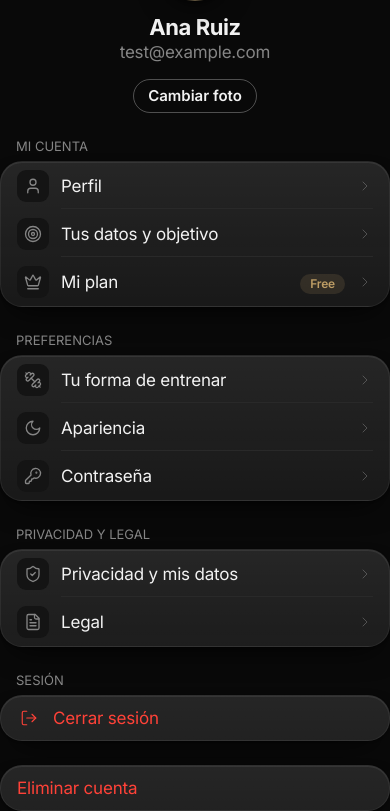
Test: settings account deletion › warns about a active subscription before deleting the account
The image size is (390, 811).
(page scrolled)
Click the button "Eliminar cuenta": (77, 788) left=1, top=766, right=389, bottom=810
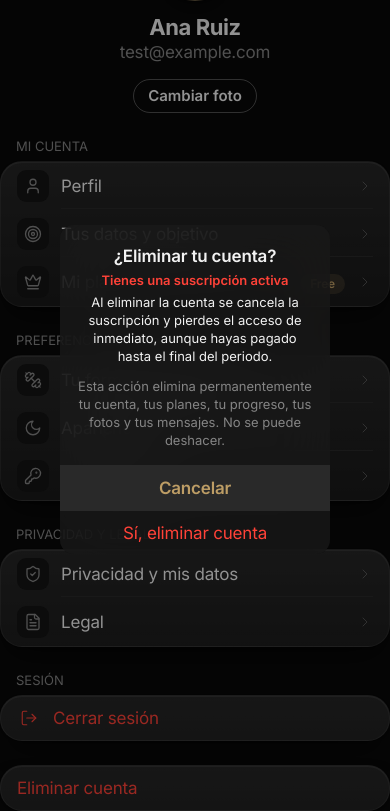
Check: the text "Tienes una suscripción activa" is shown, box left=102, top=272, right=289, bottom=288
Check: the text "Al eliminar la cuenta se cancela la suscripción y pierdes el acceso de inmediato, aunque hayas pagado hasta el final del" is shown, box left=88, top=294, right=302, bottom=364
Check: the button "Sí, eliminar cuenta" is enabled, box left=60, top=510, right=330, bottom=554
